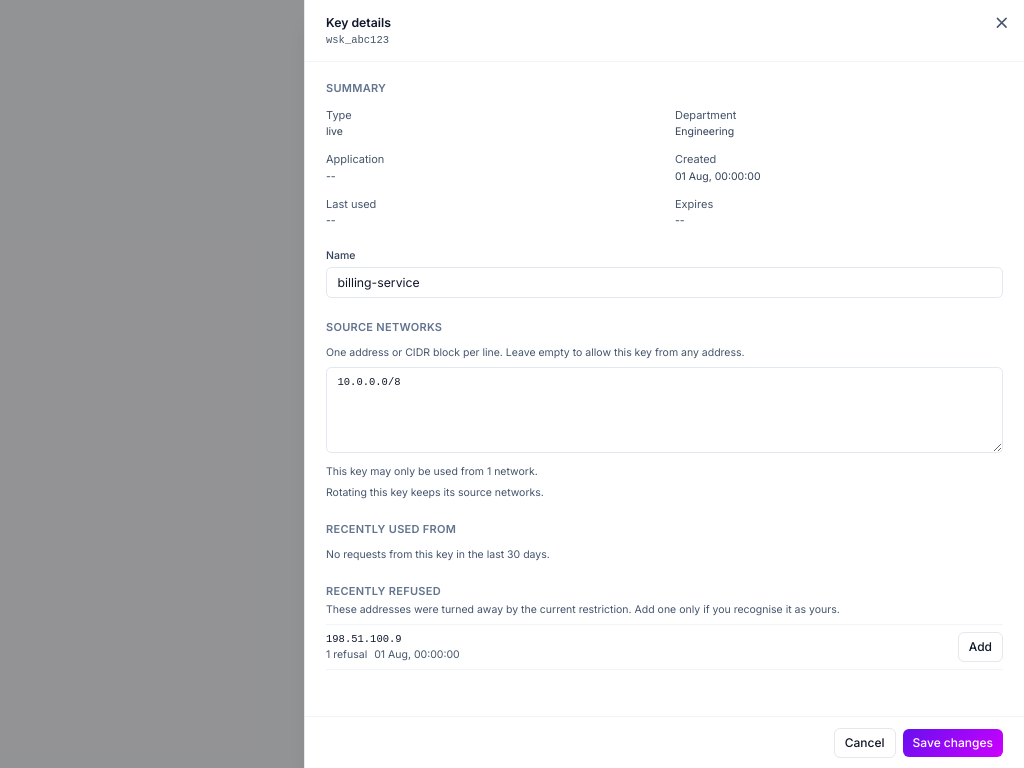
Test: KeyDetailDrawer address panels › does not add a refused address on a single click
Expected: the text "198.51.100.9" is shown, [326,633,402,645]
What coordinates should you click on to do the following:
click the button "Add"
I would click on:
 (980, 647)
Its box is [958,632,1003,662].
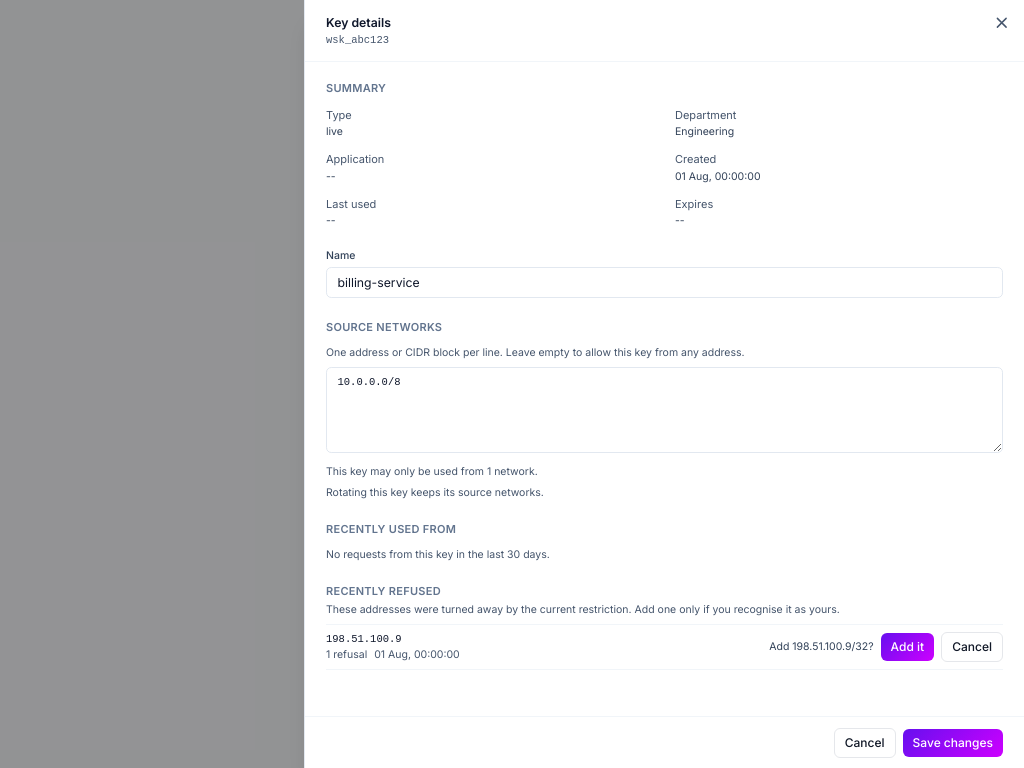
Expected: the text box named "Source networks" holds "10.0.0.0/8", [326,367,1003,453]
Expected: the text "Add 198.51.100.9/32?" is shown, [769,640,874,654]
